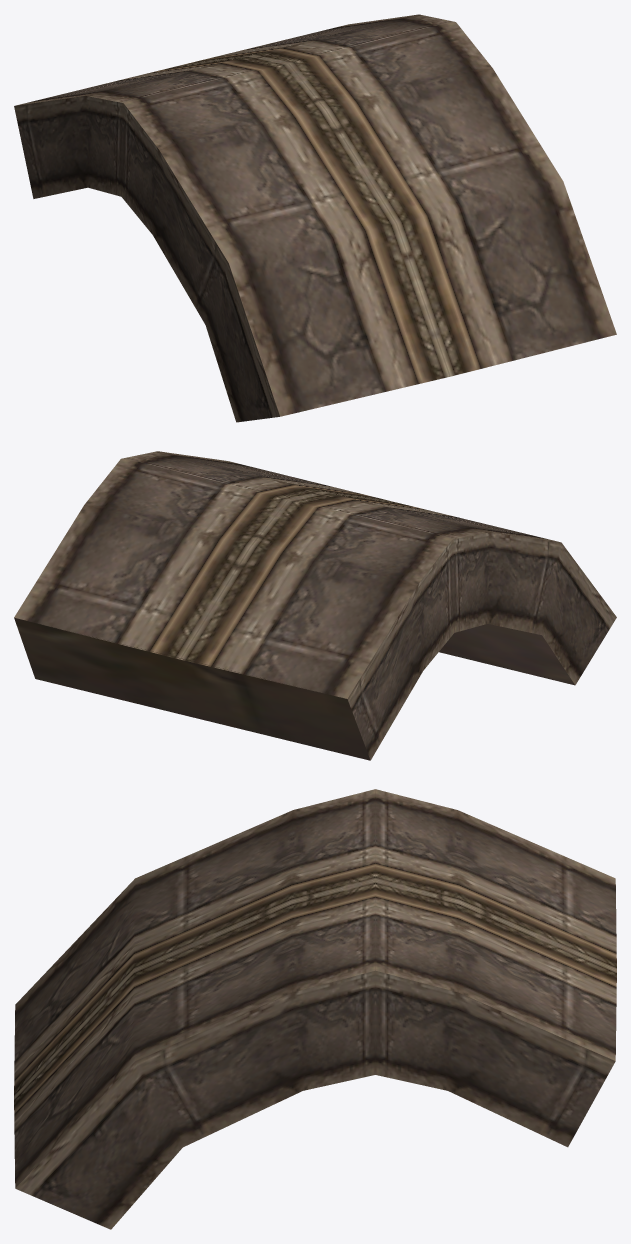
File: blsd_4suishi_03.FBX
3 renders of one model, top to bottom at view 1: azimuth 30°, elevation 25°; view 2: azimuth 150°, elevation 25°; view 3: azimuth 270°, elevation 25°, orthographic. The views are drawn at different scales.
Parts seen in each view (by area): view 1: blsd_4suishi_03; view 2: blsd_4suishi_03; view 3: blsd_4suishi_03.
Boxes of the visible parts, x1,y1,x2,y2 form: blsd_4suishi_03: (14,14,616,422); blsd_4suishi_03: (14,451,616,760); blsd_4suishi_03: (14,789,616,1229).
Size of the model in its own units: 130 by 85.41 by 180.
